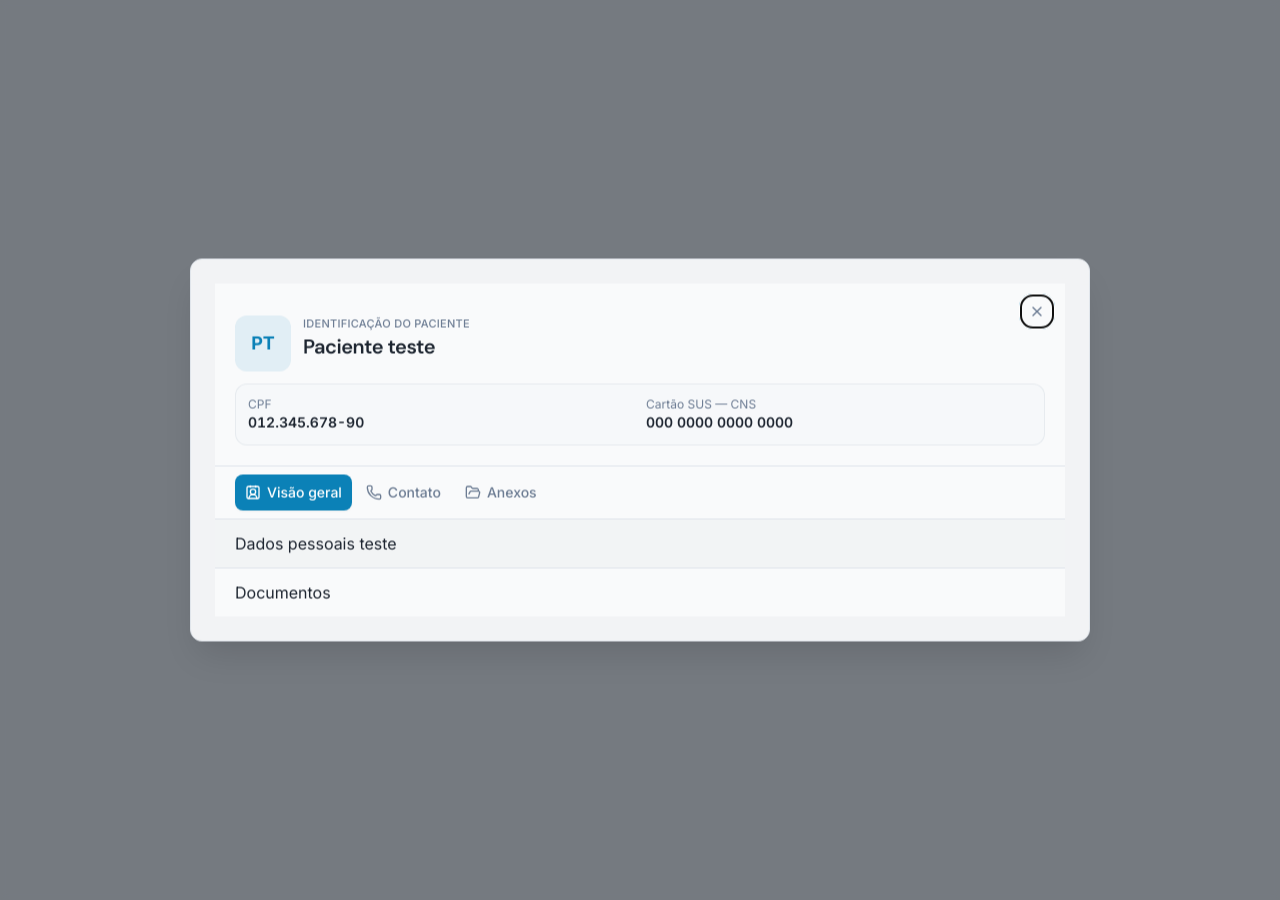
Test case: card operacional de paciente › modal mantém identificação ao navegar entre seções
Check: the text "012.345.678-90" is shown, box [248,414,364,430]
Check: the text "Dados pessoais teste" is shown, box [235,534,397,554]
Press ArrowRight in the tab "Visão geral", box [235,474,352,510]
Press the mouse on the tab "Contato": (403, 492) [356,474,451,510]
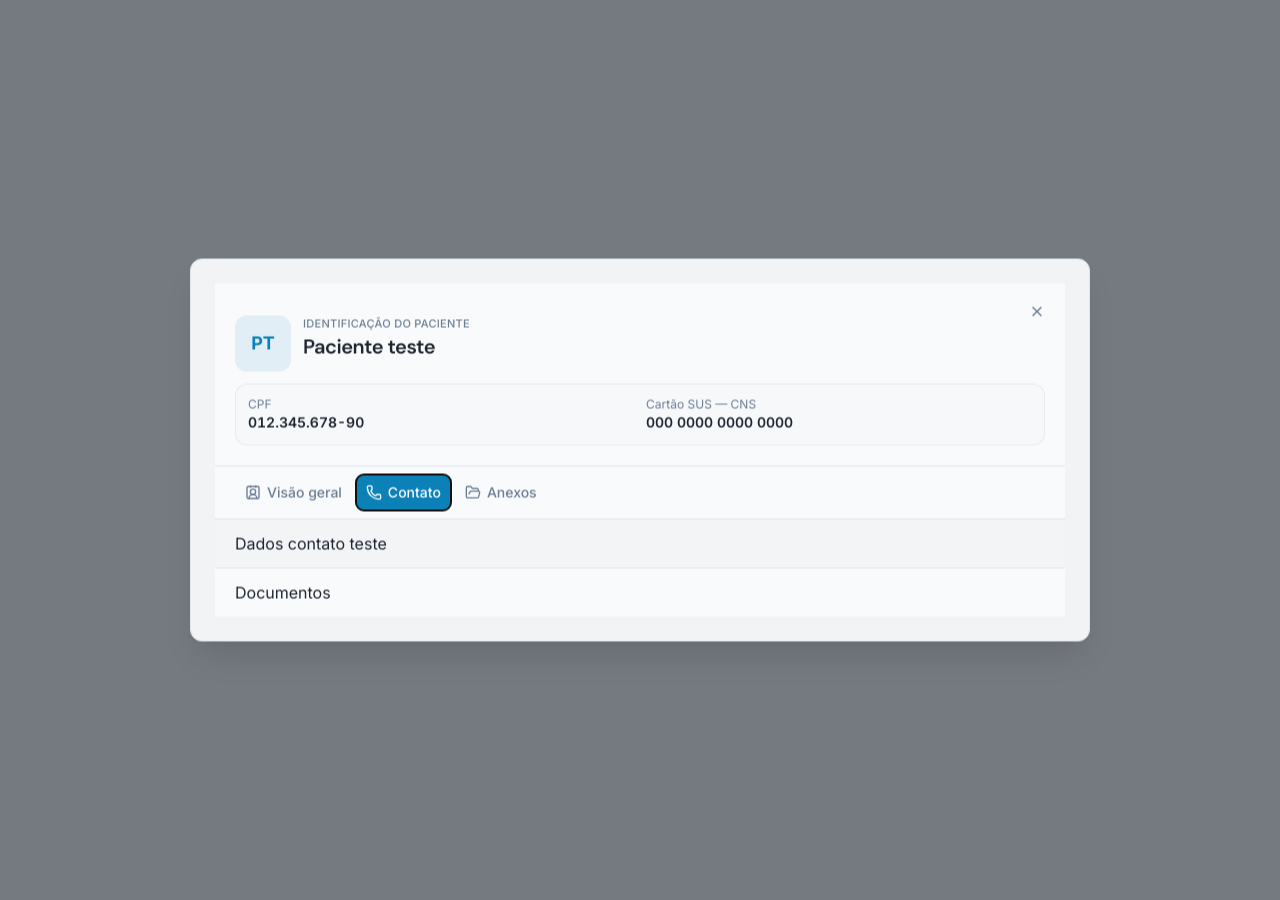
Check: the text "012.345.678-90" is shown, box [248,414,364,430]
Check: the text "Dados contato teste" is shown, box [235,534,387,554]
Check: the text "Dados pessoais teste" is gone
